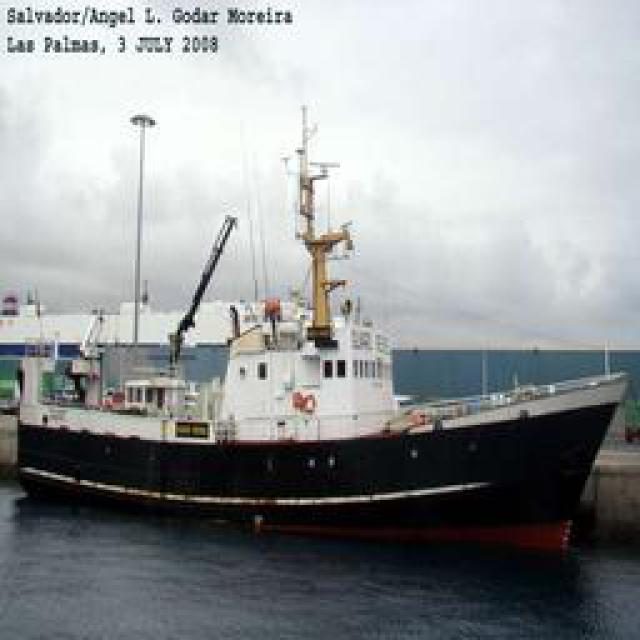Ship: (12, 62, 630, 530)
